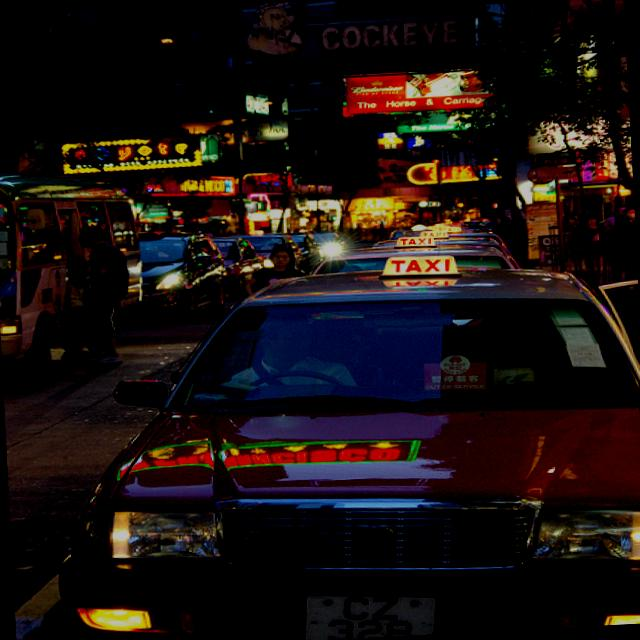Vehicle: (45, 243, 640, 640), (44, 245, 640, 640), (0, 167, 147, 377), (136, 234, 235, 320), (344, 238, 520, 280), (311, 244, 516, 280), (372, 230, 518, 270), (219, 236, 275, 298), (232, 232, 304, 274), (288, 231, 326, 271), (312, 230, 356, 262), (460, 220, 486, 228)
